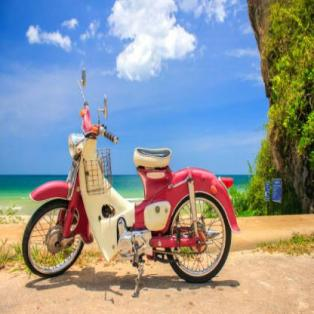Motocicleta: (12, 66, 241, 300)
